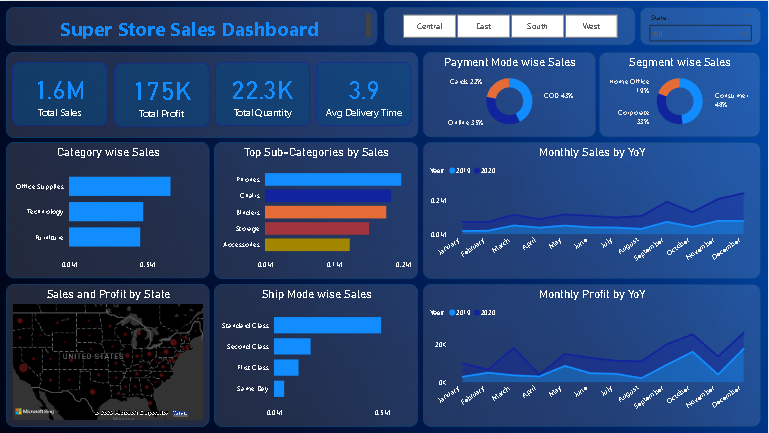

The dashboard page shown, as its layout file describes it:
{"tool":"powerbi","page":{"name":"Analysis","canvas":[1280,720],"ordinal":1},"visuals":[{"type":"clusteredBarChart","title":"Category wise Sales","fields":{"Category":["SuperStore_Sales_Dataset.Category"],"Y":["Sum(SuperStore_Sales_Dataset.Sales)"]},"box":[10,235.4,339.2,226.9],"z":0},{"type":"clusteredBarChart","title":"Top Sub-Categories by Sales","fields":{"Y":["Sum(SuperStore_Sales_Dataset.Sales)"],"Category":["SuperStore_Sales_Dataset.Sub-Category"]},"box":[356.7,235,340,227.5],"z":1000},{"type":"clusteredBarChart","title":"Ship Mode wise Sales","fields":{"Y":["Sum(SuperStore_Sales_Dataset.Sales)"],"Category":["SuperStore_Sales_Dataset.Ship Mode"]},"box":[356.7,471.7,340,237.5],"z":2000},{"type":"stackedAreaChart","title":"Monthly Sales by YoY","fields":{"Category":["SuperStore_Sales_Dataset.Order Date.Variation.Date Hierarchy.Month","SuperStore_Sales_Dataset.Order Date.Variation.Date Hierarchy.Day"],"Y":["Sum(SuperStore_Sales_Dataset.Sales)"],"Series":["SuperStore_Sales_Dataset.Order Date.Variation.Date Hierarchy.Year"]},"box":[705,235,562.5,227.5],"z":3000},{"type":"stackedAreaChart","title":"Monthly Profit by YoY","fields":{"Category":["SuperStore_Sales_Dataset.Order Date.Variation.Date Hierarchy.Month","SuperStore_Sales_Dataset.Order Date.Variation.Date Hierarchy.Day"],"Series":["SuperStore_Sales_Dataset.Order Date.Variation.Date Hierarchy.Year"],"Y":["Sum(SuperStore_Sales_Dataset.Profit)"]},"box":[705,471.2,562.5,237.5],"z":4000},{"type":"map","title":"Sales and Profit by State","fields":{"Category":["SuperStore_Sales_Dataset.State"],"Size":["Sum(SuperStore_Sales_Dataset.Sales)"]},"box":[10,471.7,339.2,237.5],"z":5000},{"type":"donutChart","title":"Segment wise Sales","fields":{"Category":["SuperStore_Sales_Dataset.Segment"],"Y":["Sum(SuperStore_Sales_Dataset.Sales)"]},"box":[999,85,269,142],"z":6000},{"type":"donutChart","title":"Payment Mode wise Sales","fields":{"Y":["Sum(SuperStore_Sales_Dataset.Sales)"],"Category":["SuperStore_Sales_Dataset.Payment Mode"]},"box":[705,85,288,142],"z":7000},{"type":"textbox","box":[10,10,618.5,63.5],"z":8000},{"type":"slicer","fields":{"Values":["SuperStore_Sales_Dataset.Region"]},"box":[640,10,419.4,63.5],"z":9000},{"type":"textbox","box":[10,84.2,686.7,142.5],"z":10000},{"type":"slicer","fields":{"Values":["SuperStore_Sales_Dataset.State"]},"box":[1065.9,10,201.8,63.5],"z":11000},{"type":"card","fields":{"Values":["Sum(SuperStore_Sales_Dataset.Sales)"]},"box":[20.5,102.1,158.9,105.8],"z":12000},{"type":"card","fields":{"Values":["Sum(SuperStore_Sales_Dataset.Profit)"]},"box":[190,102.6,158.9,105.8],"z":13000},{"type":"card","fields":{"Values":["Sum(SuperStore_Sales_Dataset.Quantity)"]},"box":[358.8,101.8,158.5,105.8],"z":14000},{"type":"card","fields":{"Values":["Avg(SuperStore_Sales_Dataset.Delivery Time)"]},"box":[526.7,102.2,159.3,105.6],"z":15000}]}

Visuals, with their boxes in screenshot pixels (x1, y1, x2, y2), scaled from the page's 1280x720 canvas onto the 769x433 screenshot:
"Category wise Sales" clusteredBarChart: locate(6, 142, 210, 278)
"Top Sub-Categories by Sales" clusteredBarChart: locate(214, 141, 419, 278)
"Ship Mode wise Sales" clusteredBarChart: locate(214, 284, 419, 427)
"Monthly Sales by YoY" stackedAreaChart: locate(424, 141, 761, 278)
"Monthly Profit by YoY" stackedAreaChart: locate(424, 283, 761, 426)
"Sales and Profit by State" map: locate(6, 284, 210, 427)
"Segment wise Sales" donutChart: locate(600, 51, 762, 137)
"Payment Mode wise Sales" donutChart: locate(424, 51, 597, 137)
textbox: locate(6, 6, 378, 44)
slicer - SuperStore_Sales_Dataset.Region: locate(384, 6, 636, 44)
textbox: locate(6, 51, 419, 136)
slicer - SuperStore_Sales_Dataset.State: locate(640, 6, 762, 44)
card - Sum(SuperStore_Sales_Dataset.Sales): locate(12, 61, 108, 125)
card - Sum(SuperStore_Sales_Dataset.Profit): locate(114, 62, 210, 125)
card - Sum(SuperStore_Sales_Dataset.Quantity): locate(216, 61, 311, 125)
card - Avg(SuperStore_Sales_Dataset.Delivery Time): locate(316, 61, 412, 125)
